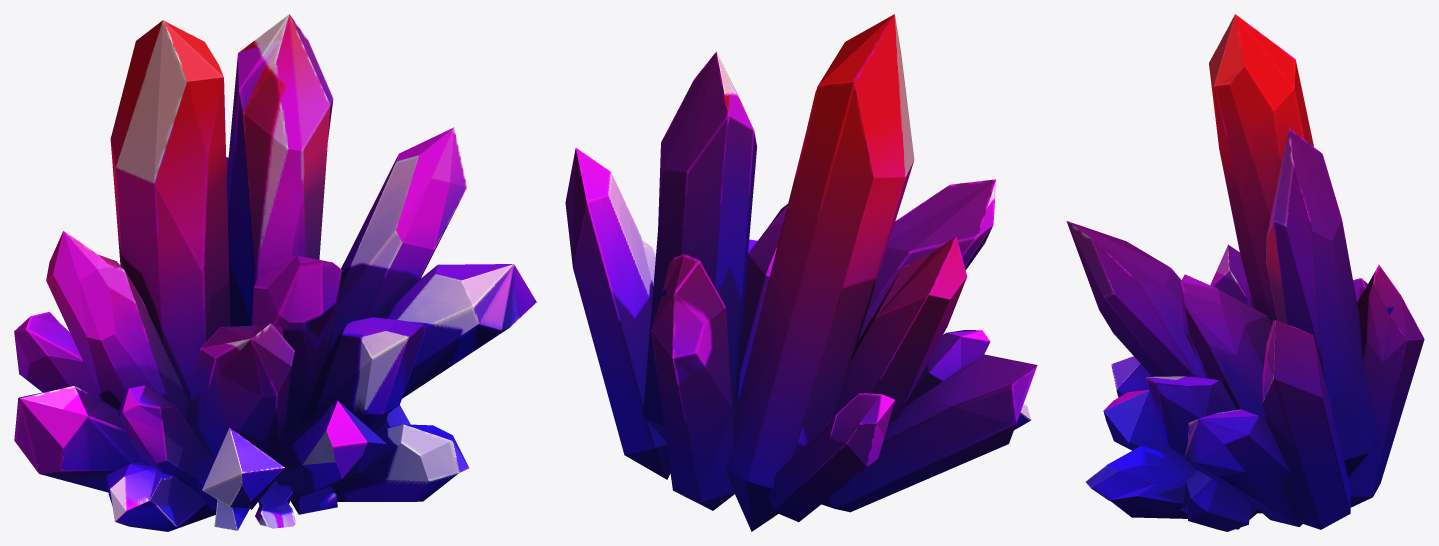
File: stylized_crystal.glb
3 renders of one model, left to right at view 1: azimuth 30°, elevation 25°; view 2: azimuth 150°, elevation 25°; view 3: azimuth 270°, elevation 25°, orthographic. The views are drawn at different scales.
Visible parts, largest first — view 1: crystal17_2; view 2: crystal17_2; view 3: crystal17_2.
Part boxes in pixels (bbox=[...]): crystal17_2: bbox=[14, 14, 536, 531]; crystal17_2: bbox=[565, 14, 1037, 531]; crystal17_2: bbox=[1066, 14, 1424, 531].
Bounding box in the file's own units: 87.41 × 88.06 × 63.38.
Materials: 1 (1 with a texture image).
